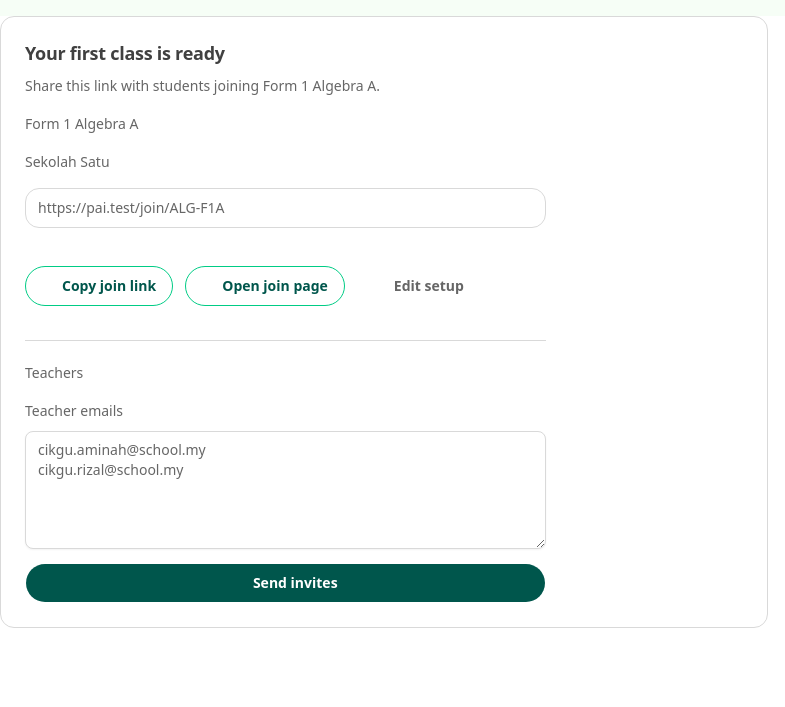
OnboardingResultActions › shows the source-admin invite error title when no teacher emails are provided
Click the button "Send invites" at (285, 583), box [25, 563, 546, 603]
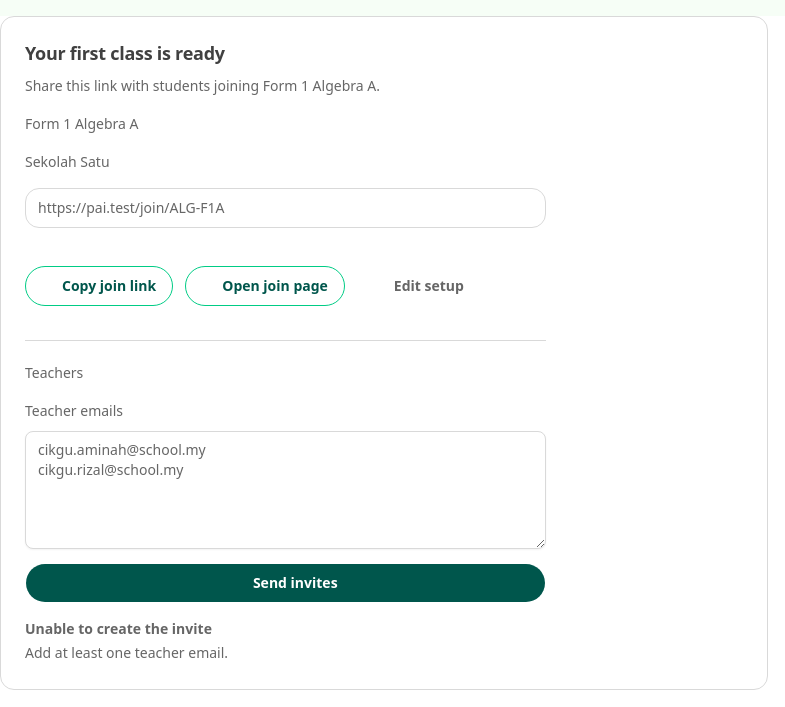
Expected: the message shows "Unable to create the invite", [25, 619, 212, 638]
Expected: the message shows "Add at least one teacher email.", [25, 643, 228, 662]
